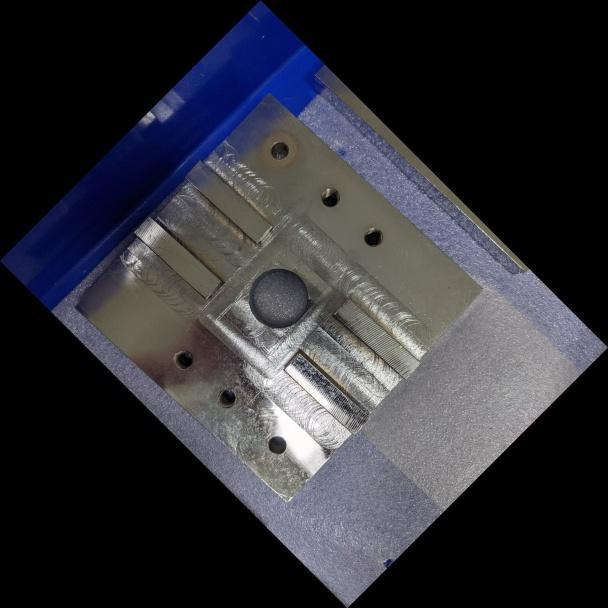hole: (256, 424, 298, 466), (260, 132, 299, 171), (163, 339, 202, 378), (311, 178, 349, 216), (354, 216, 392, 254), (208, 378, 246, 416)
